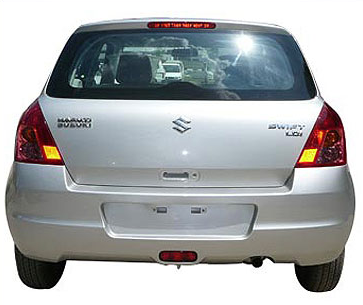car: (1, 16, 358, 294)
